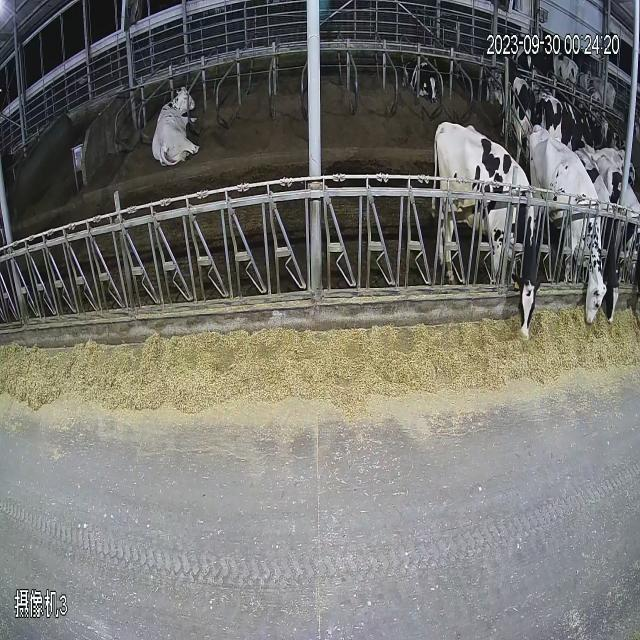feeding: (432, 110, 622, 346)
lying down: (149, 62, 209, 182), (401, 38, 448, 106)
standing: (546, 29, 620, 116), (497, 42, 537, 136)
